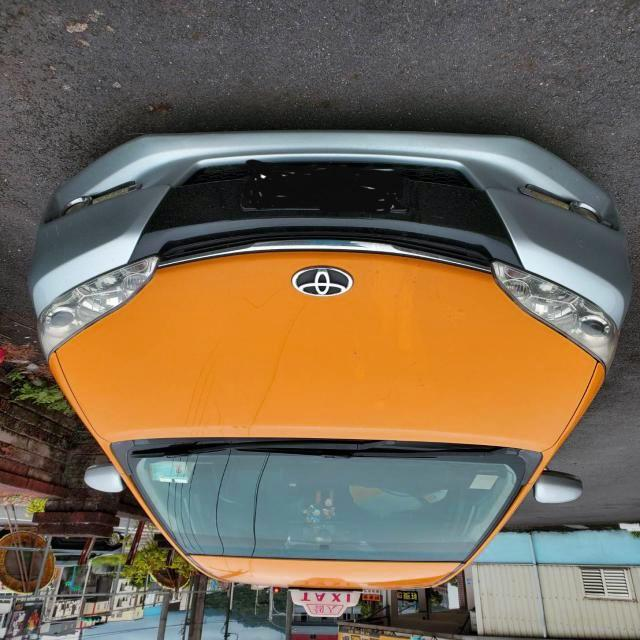taxi: (34, 103, 636, 619)
